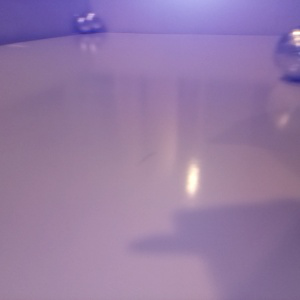alive_ball: (275, 26, 300, 82), (85, 12, 104, 31), (76, 17, 92, 33)
